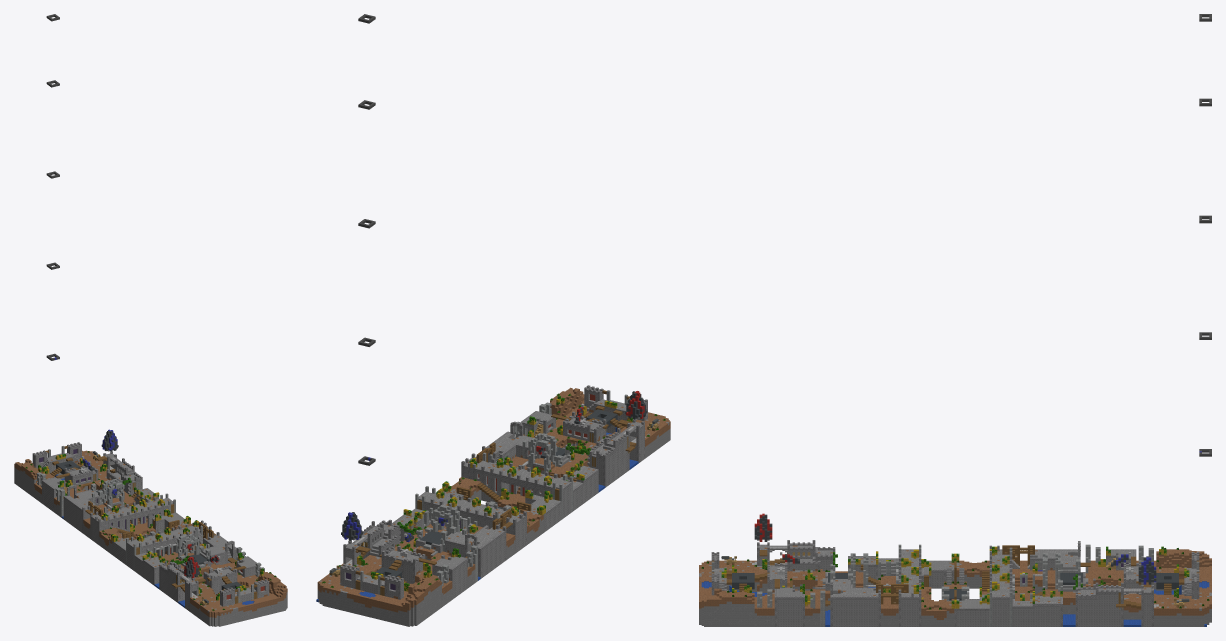
Rendered from minecraft.obj.
The picture shows the model from 3 angles, left to right: view 1: azimuth 30°, elevation 25°; view 2: azimuth 150°, elevation 25°; view 3: azimuth 270°, elevation 25°; orthographic projection. The views are drawn at different scales.
Bounding box in the file's own units: 49 × 256 × 203.
